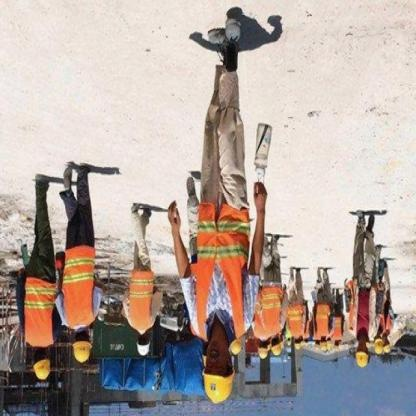vest: (191, 199, 256, 346), (58, 241, 99, 332), (20, 272, 61, 352), (126, 266, 156, 336), (258, 284, 286, 339), (286, 303, 309, 341), (312, 304, 335, 340), (332, 312, 345, 344)
white: (133, 339, 152, 356)
yellow: (200, 366, 236, 408), (32, 356, 54, 386), (72, 339, 96, 366), (354, 350, 373, 370), (268, 340, 286, 360), (229, 342, 244, 358), (256, 345, 270, 362), (383, 344, 396, 359), (374, 339, 386, 355), (319, 340, 330, 352), (295, 340, 306, 352)
